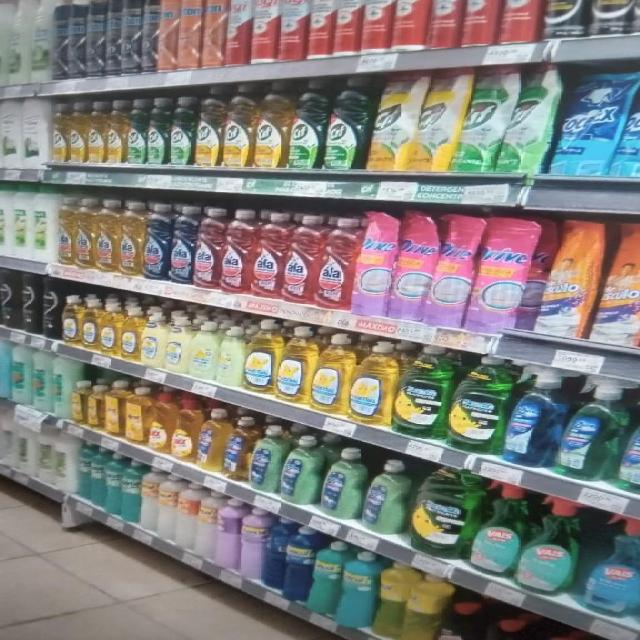ala_conc_amarillo: (119, 201, 143, 277), (96, 198, 118, 274), (75, 198, 95, 270), (56, 197, 74, 267)
ala_conc_azul: (144, 202, 169, 282), (170, 204, 194, 284)
ala_conc_rojo: (318, 216, 354, 311), (285, 214, 317, 305), (253, 212, 284, 299), (222, 209, 251, 294), (195, 207, 221, 290)
cif_conc_bot_amarilla: (255, 81, 288, 168), (224, 84, 254, 168), (196, 87, 222, 167), (106, 99, 125, 164), (67, 102, 86, 163), (87, 100, 105, 163), (50, 102, 67, 163)
cif_conc_botella_verde: (326, 76, 367, 171), (290, 79, 324, 170), (169, 96, 194, 166), (146, 97, 168, 165), (126, 99, 146, 164)
cif_conc_sachet_amarillo: (371, 72, 416, 172), (418, 68, 459, 172)
esencial: (340, 550, 377, 629), (310, 539, 340, 618)
magistral_con_amarillo: (349, 340, 394, 426), (312, 332, 348, 413), (277, 325, 311, 404), (244, 324, 276, 394), (100, 299, 120, 355), (120, 305, 140, 360), (61, 294, 81, 345), (82, 296, 98, 351)
magistral_con_crema: (218, 324, 243, 387), (190, 321, 216, 380), (140, 308, 164, 368), (165, 316, 187, 374)
magistral_con_verde: (411, 466, 475, 558), (396, 344, 448, 439)
odex: (172, 396, 197, 462)
